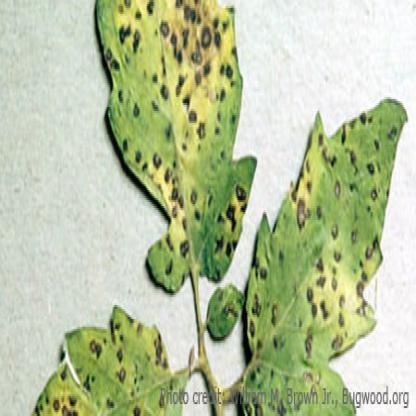Tomato leaf late blight: (244, 93, 410, 412), (88, 4, 258, 303), (30, 299, 178, 414)
